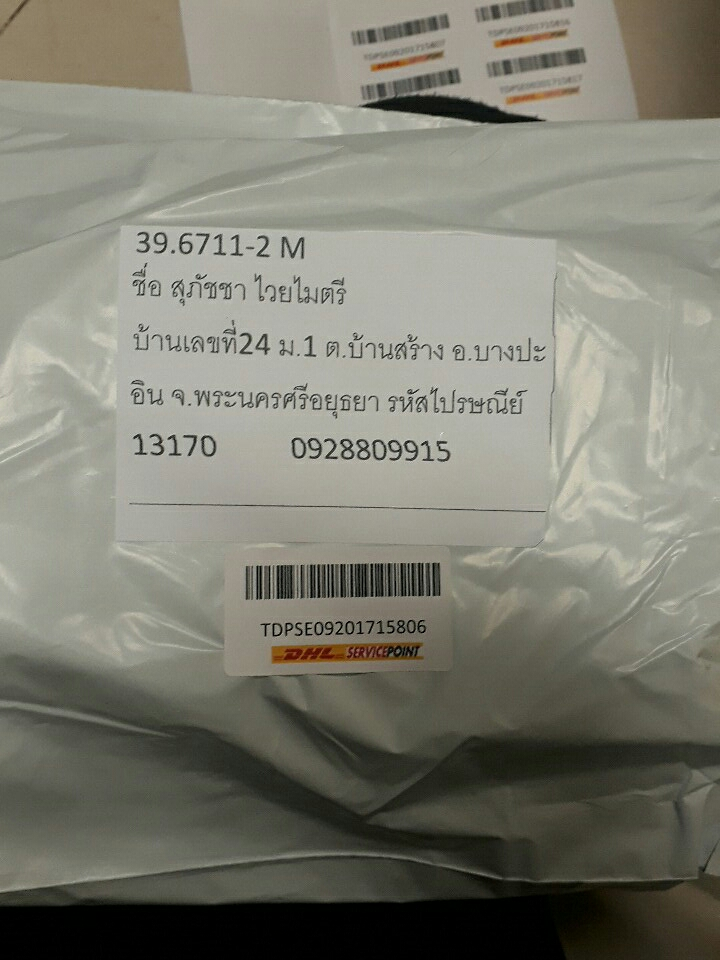ba: (207, 532, 472, 690)
txt: (125, 260, 550, 495)
